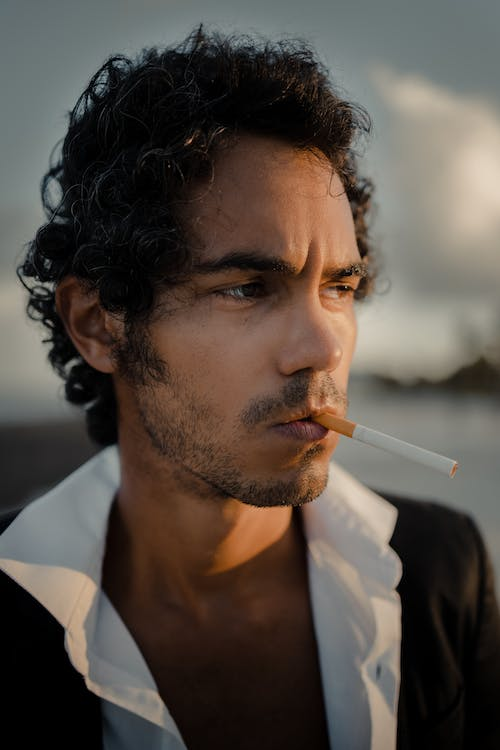cigarette: (311, 401, 459, 481)
